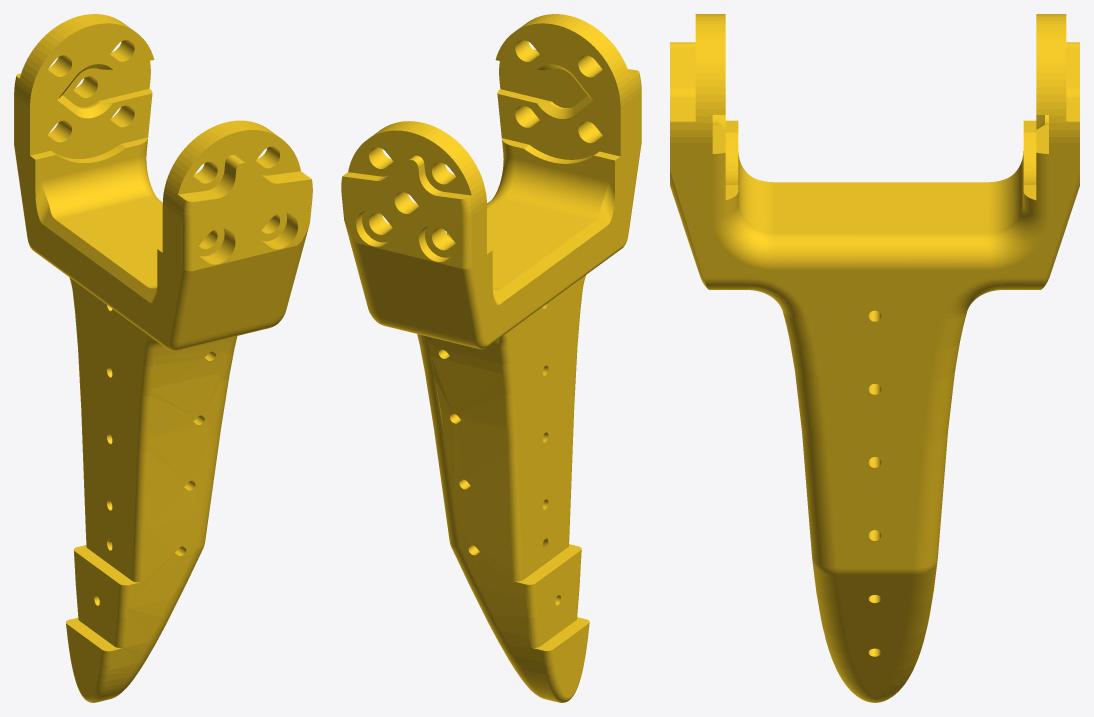
File: jaw_visuals_moving_jaw_so101_v1_mesh.obj
3 views of the same model, side by side, from view 1: azimuth 30°, elevation 25°; view 2: azimuth 150°, elevation 25°; view 3: azimuth 270°, elevation 25° (orthographic). The views are drawn at different scales.
Bounding box in the file's own units: 0.0223 × 0.092 × 0.048.
